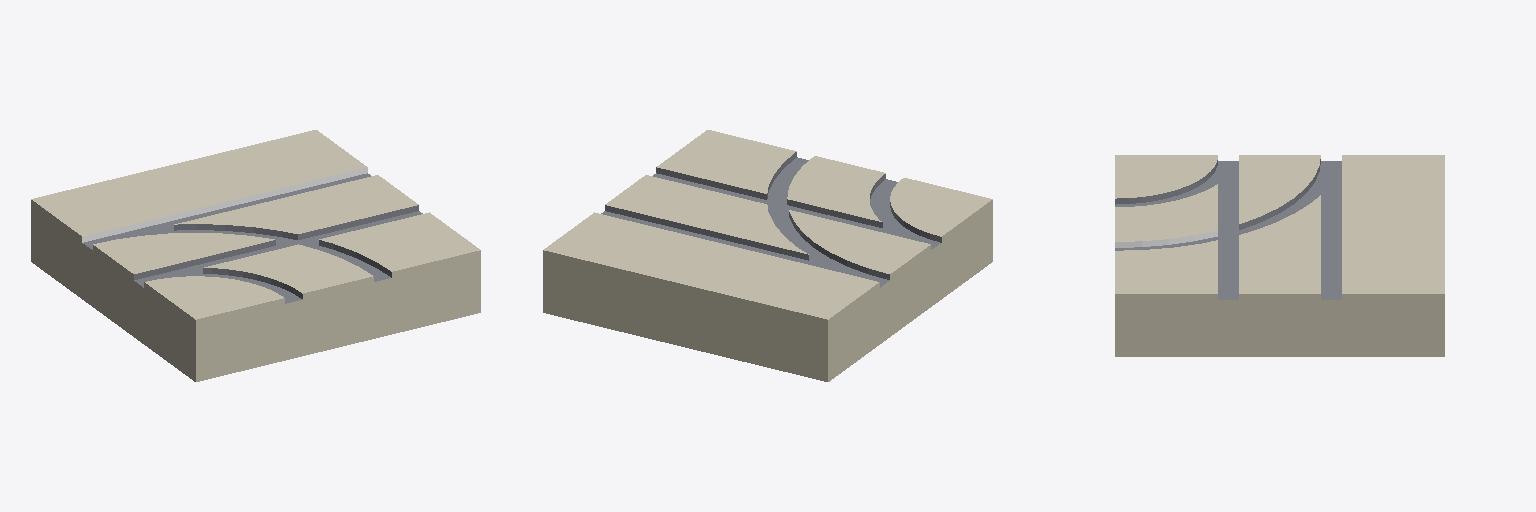
Rendered from tile247.obj.
3 views of the same model, side by side, from view 1: azimuth 30°, elevation 25°; view 2: azimuth 150°, elevation 25°; view 3: azimuth 270°, elevation 25° (orthographic).
Visible parts, largest first — view 1: tile247; view 2: tile247; view 3: tile247.
Part boxes in pixels (x1,y1,x2,y2): tile247: (31,130,480,381); tile247: (543,130,992,381); tile247: (1115,155,1444,356).
Bounding box in the file's own units: 1 × 0.21 × 1.